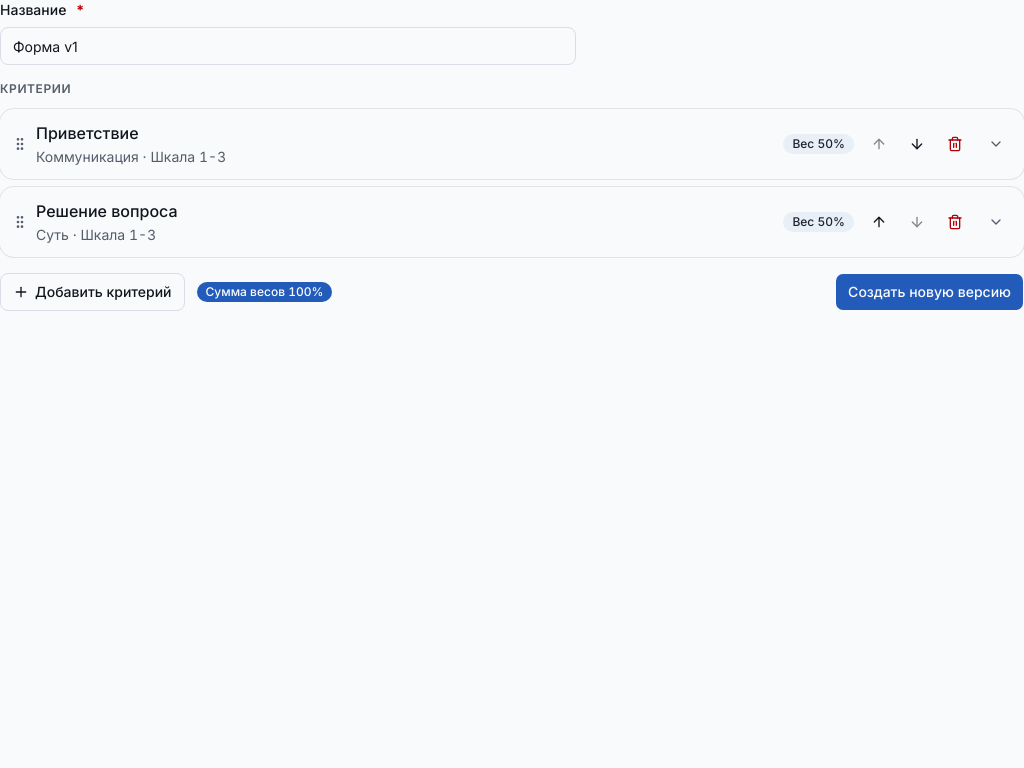
Scenario: scorecard version form destructive actions › keeps the submit button always enabled and blocks submit inline when weights are off
Click the 1st button titled "Удалить": (955, 144) [938,127,972,161]
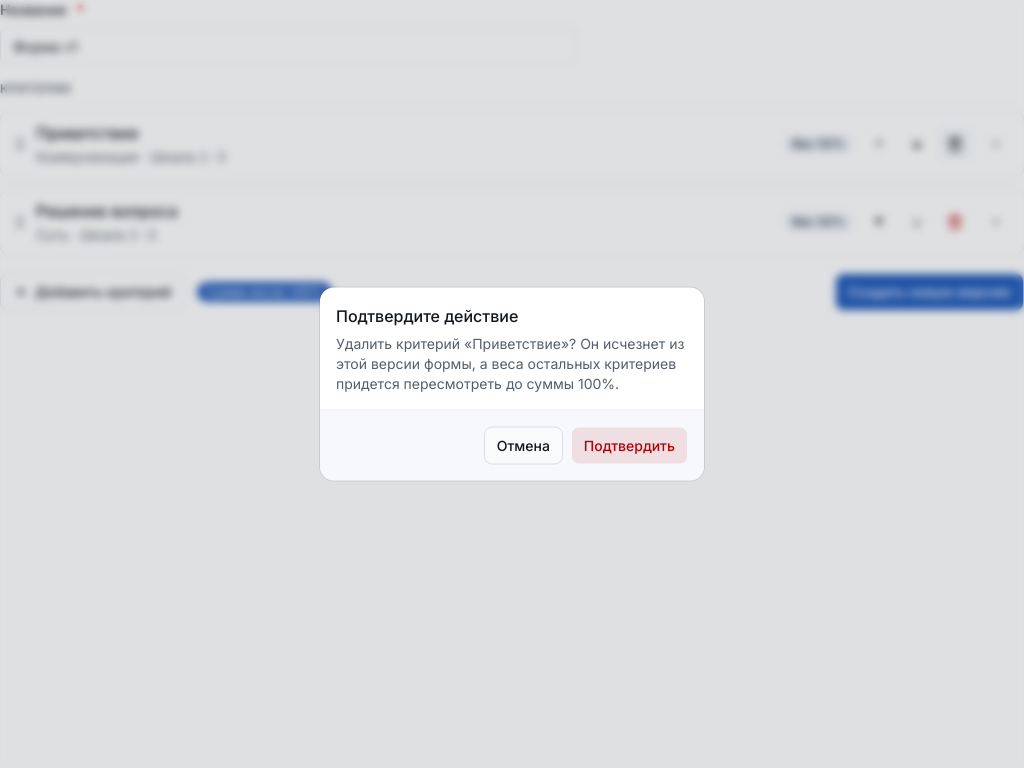
Click the button "Подтвердить": (629, 446) [571,426,688,464]
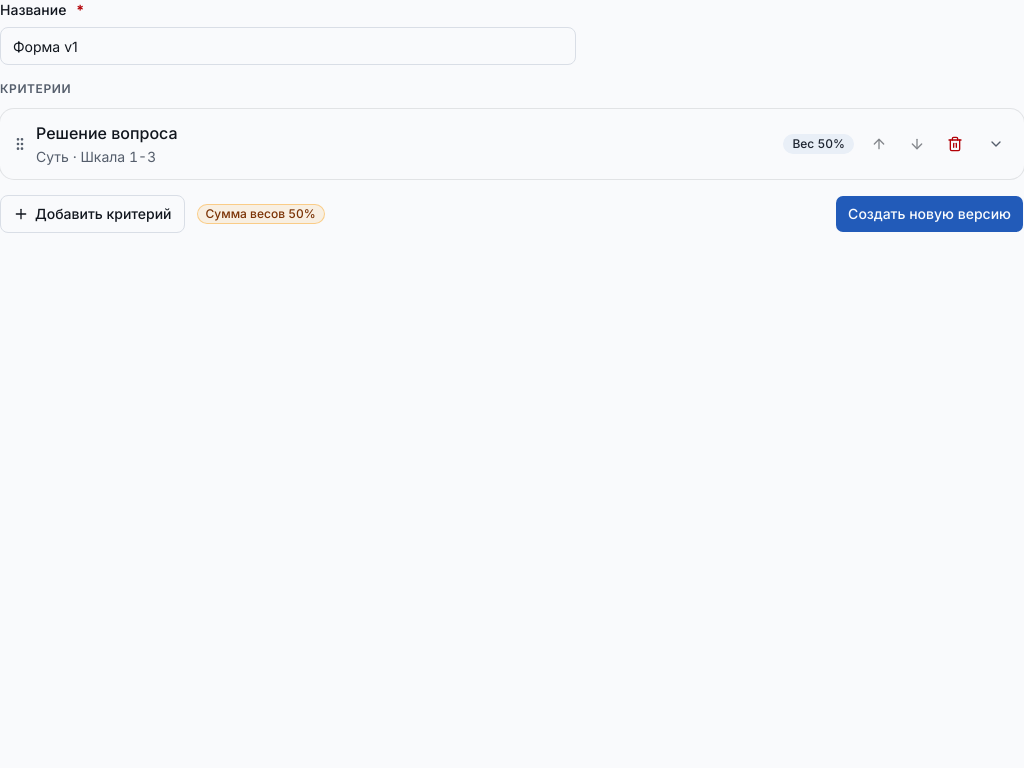
Expected: the button "Создать новую версию" is enabled, [835,195,1023,233]
Expected: the dialog is gone
Submit the form named "Создать новую версию", box [0,0,1023,233]
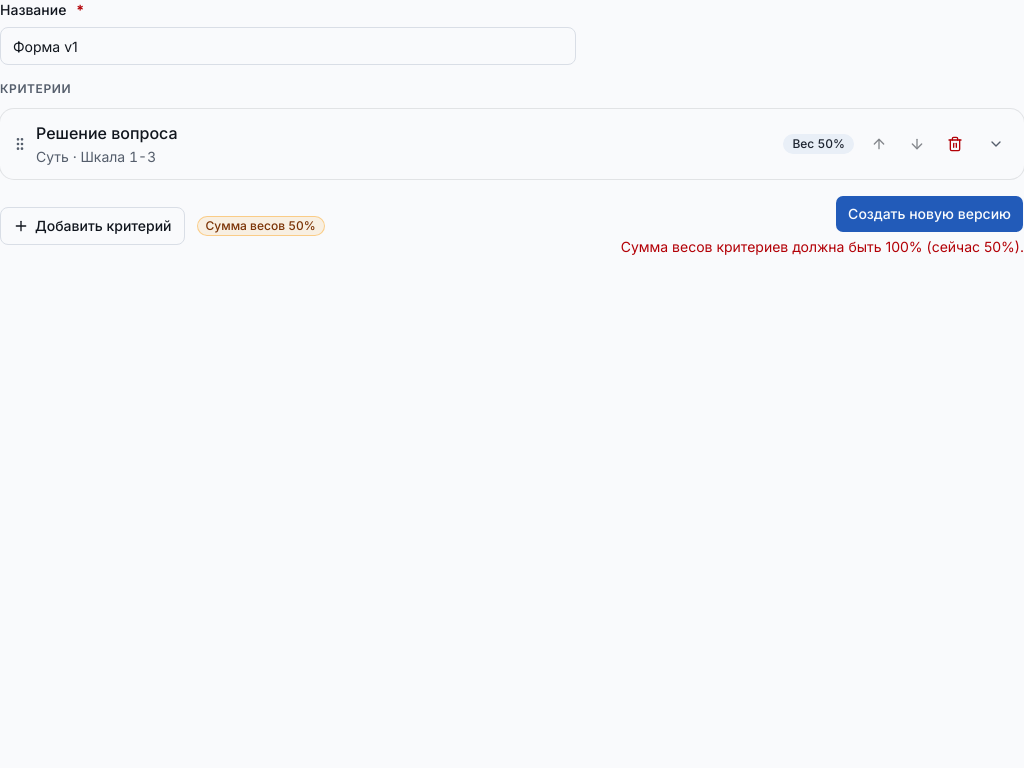
Expected: the message reads "Сумма весов критериев должна быть 100% (сейчас 50%).", [621,238,1023,255]
